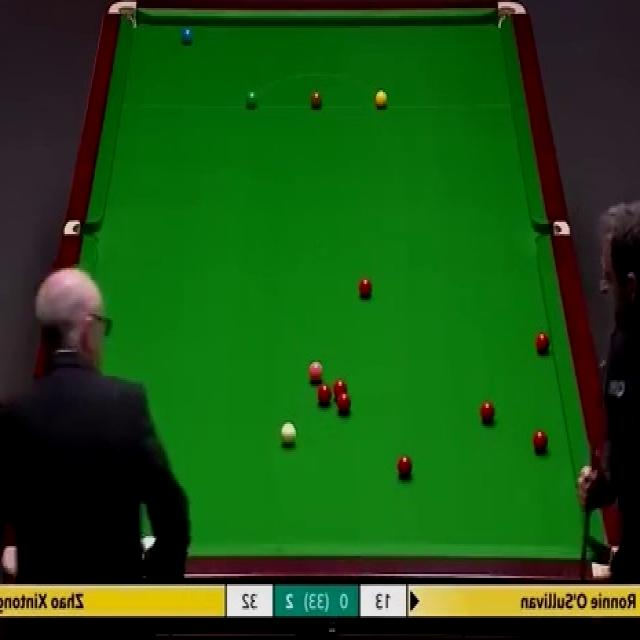blue-ball: (182, 27, 192, 48)
brown-ball: (310, 92, 323, 109)
green-ball: (244, 88, 258, 112)
pink-ball: (308, 359, 325, 380)
red-ball: (396, 453, 414, 477), (335, 390, 353, 414), (332, 378, 350, 402), (532, 430, 548, 456), (316, 384, 332, 406), (480, 400, 494, 424), (535, 330, 550, 352), (358, 278, 374, 297)
white-ball: (280, 421, 298, 446)
yellow-ball: (374, 89, 388, 110)
